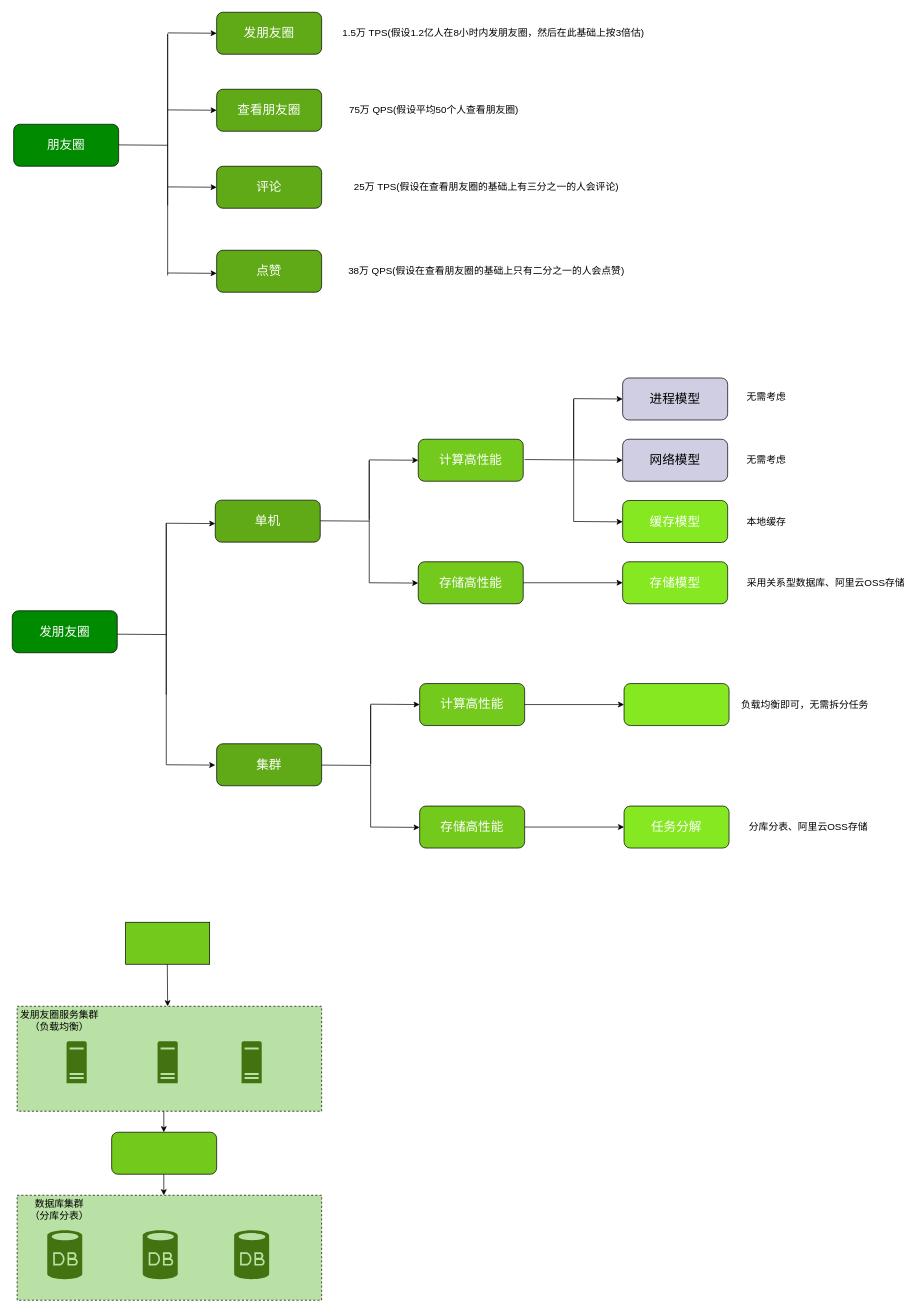
Some shapes in this 922 by 1313 pixel diagram are drawn without their labels. Here are the shapes that lost their labels. From the top down, the box of each, then its label:
(623, 683, 729, 726): 任务分配
(125, 922, 210, 964): Nginx
(111, 1132, 217, 1174): Sharding-JDBC
